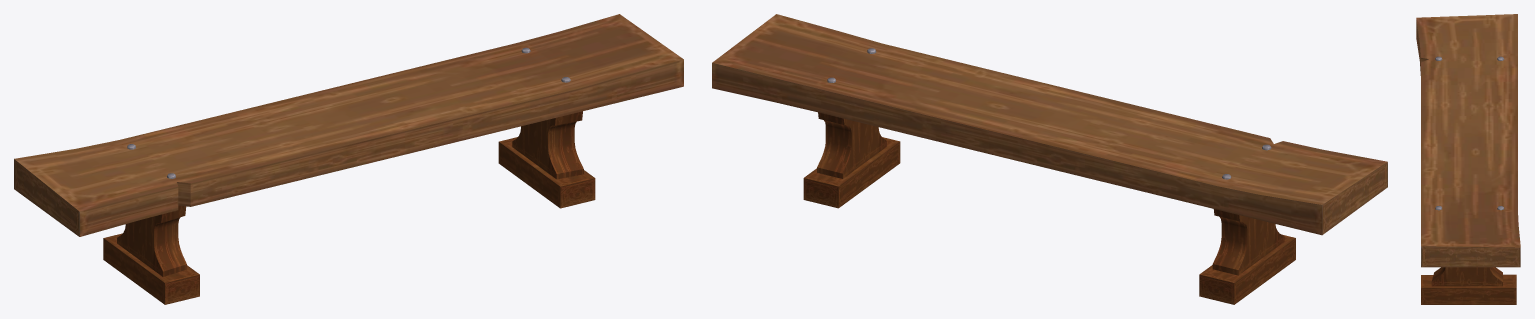
File: Bench.glb
3 views of the same model, side by side, from view 1: azimuth 30°, elevation 25°; view 2: azimuth 150°, elevation 25°; view 3: azimuth 270°, elevation 25° (orthographic). The views are drawn at different scales.
Visible parts, largest first — view 1: Bench; view 2: Bench; view 3: Bench.
Boxes of the visible parts, <box> form: Bench: <box>14,14,683,304</box>; Bench: <box>712,14,1387,304</box>; Bench: <box>1416,14,1520,304</box>.
Bounding box in the file's own units: 2.78 × 0.5332 × 0.5343.
Materials: 2 (2 with a texture image).
